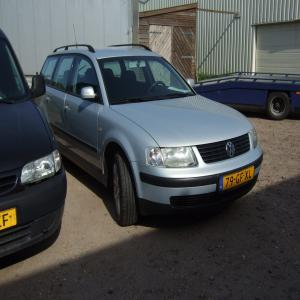Vehicle-registration-plate: (220, 165, 255, 194), (1, 207, 18, 233)
